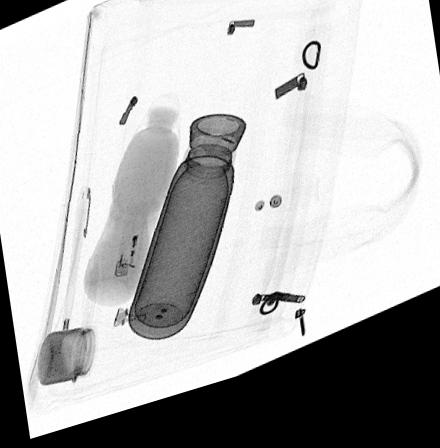Lighter: (113, 214, 146, 284)
